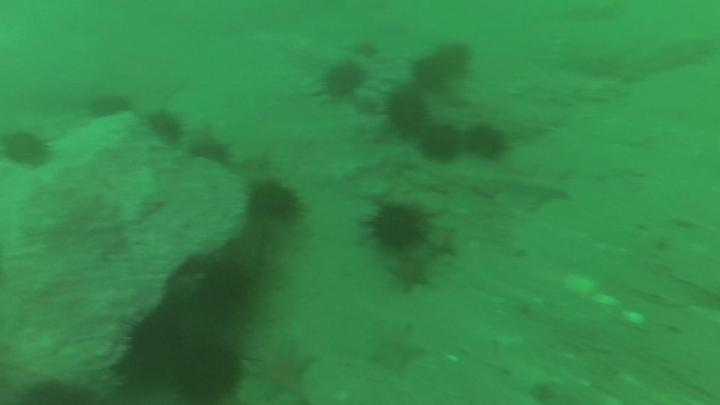echinus: (181, 346, 242, 405), (133, 312, 183, 367), (202, 262, 251, 317), (253, 182, 298, 226), (375, 205, 422, 246), (389, 88, 426, 138), (323, 60, 366, 99), (8, 134, 47, 167), (423, 127, 459, 160), (440, 43, 471, 78), (467, 127, 504, 156), (410, 56, 443, 88), (150, 111, 179, 145), (194, 138, 227, 162), (94, 96, 126, 118)
starfish: (255, 340, 312, 404), (371, 327, 420, 373), (389, 254, 432, 292)
